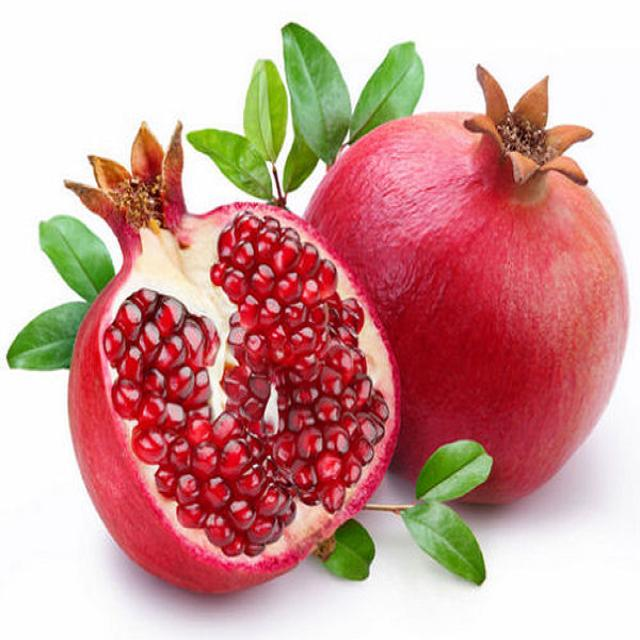apple: (308, 70, 630, 508)
